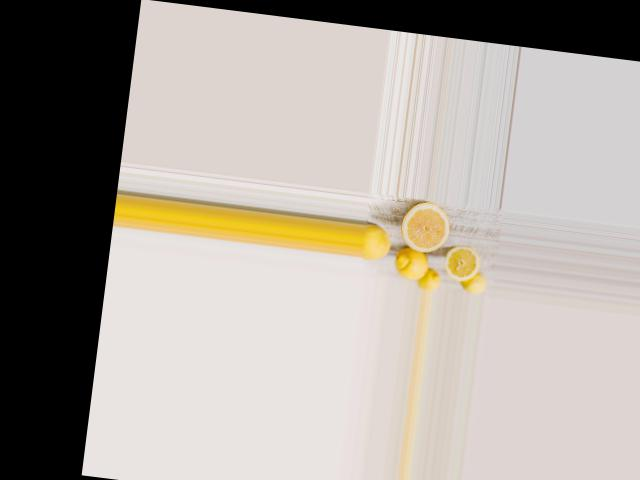lemon: (361, 220, 395, 264)
